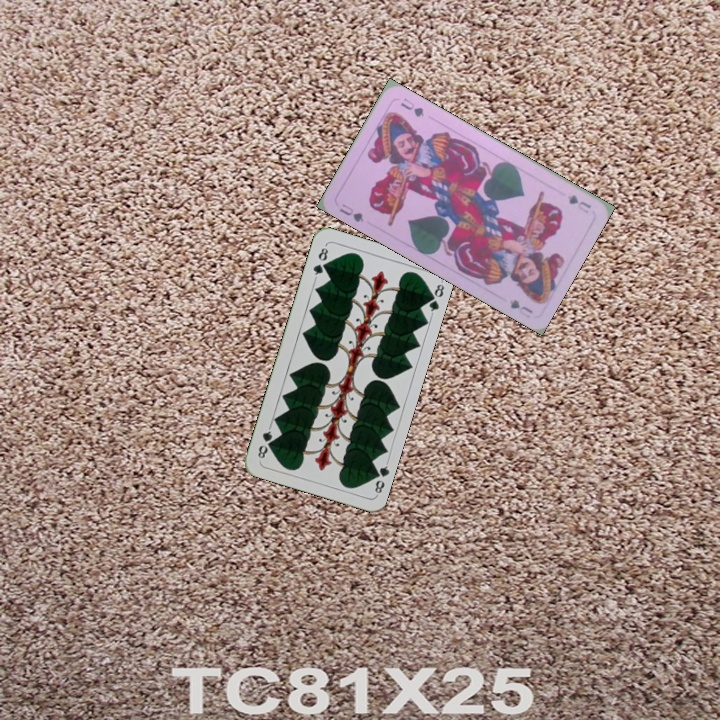G8: (368, 458, 392, 498), (309, 242, 331, 281)
GU: (335, 199, 366, 225), (564, 190, 594, 216)
